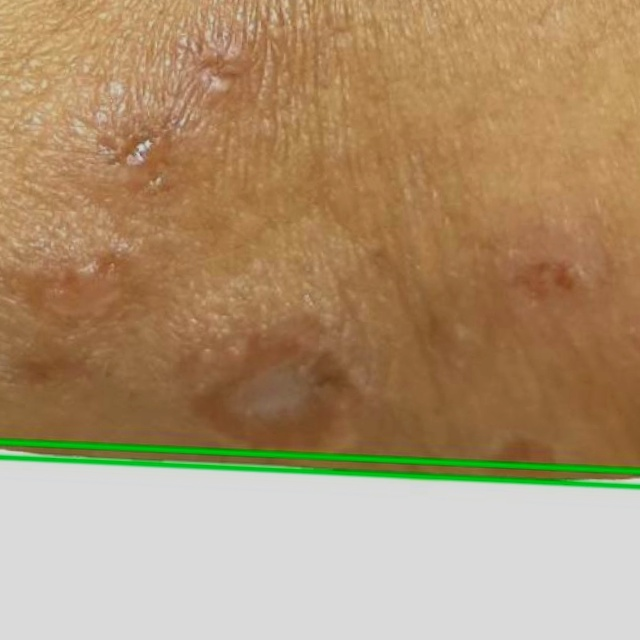Contact Dermatitis: (0, 0, 639, 486), (0, 443, 639, 639)
